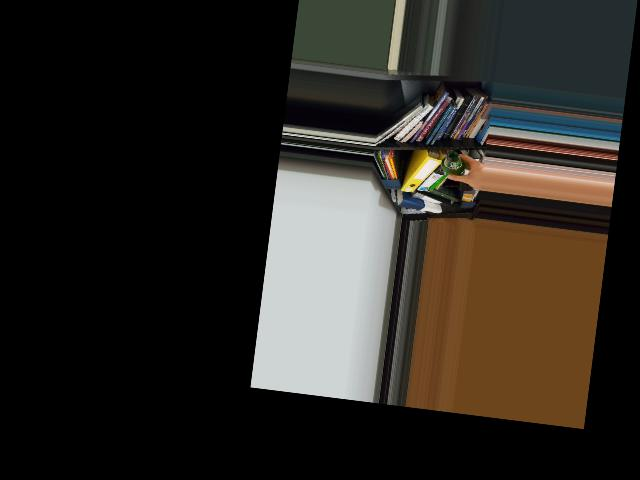beer: (439, 150, 466, 178)
